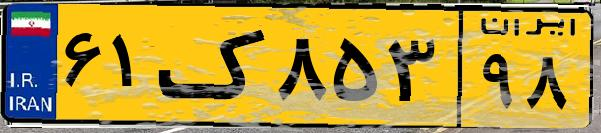1: (110, 28, 158, 98)
3: (385, 28, 445, 110)
5: (330, 28, 385, 110)
6: (57, 26, 110, 100)
8: (270, 28, 330, 110), (525, 38, 570, 115)
9: (475, 38, 525, 113)
ک: (158, 12, 270, 120)
